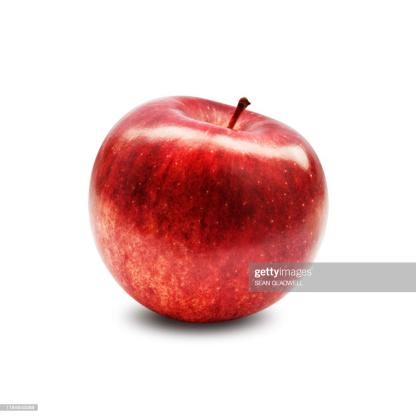Apple: (80, 66, 339, 330)
